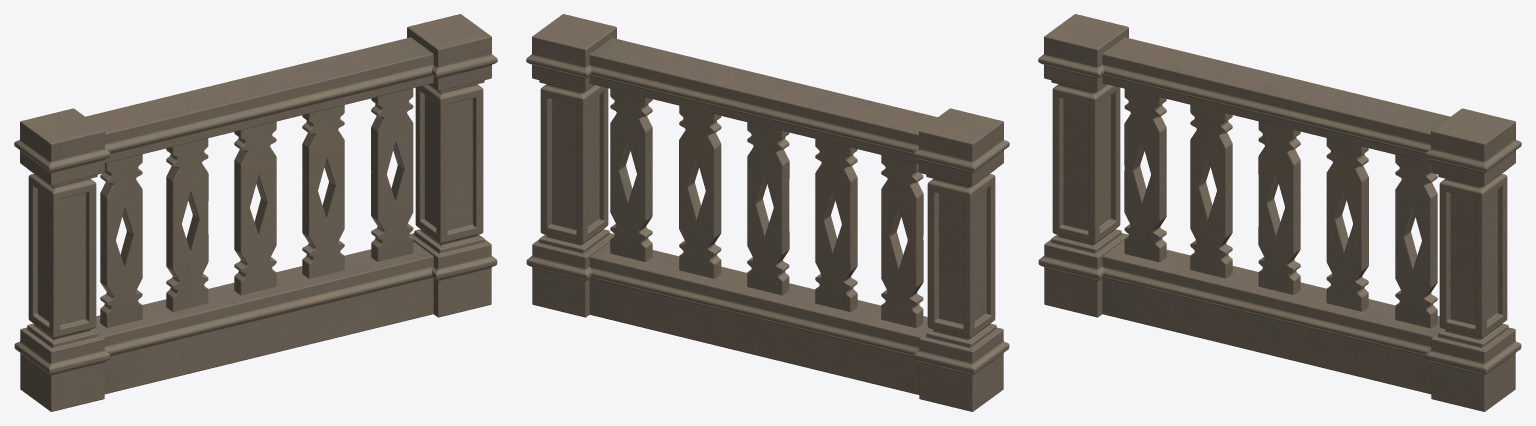
Rendered from SK5 RAILING SHORT.fbx.
3 views of the same model, side by side, from view 1: azimuth 30°, elevation 25°; view 2: azimuth 150°, elevation 25°; view 3: azimuth 330°, elevation 25° (orthographic).
Visible parts, largest first — view 1: SK5 RAILING SHORT; view 2: SK5 RAILING SHORT; view 3: SK5 RAILING SHORT.
Part boxes in pixels (<box>): SK5 RAILING SHORT: <box>14,14,497,411</box>; SK5 RAILING SHORT: <box>526,14,1009,411</box>; SK5 RAILING SHORT: <box>1038,14,1521,411</box>.
Bounding box in the file's own units: 199 × 114 × 27.43.
